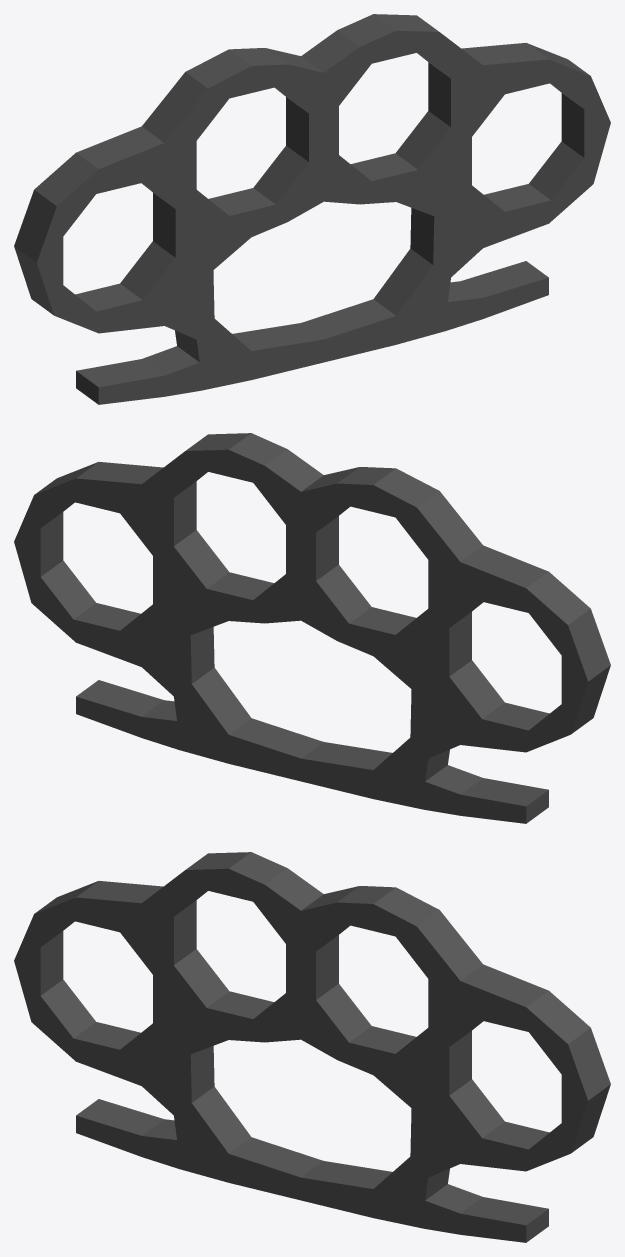
Rendered from BrassKnuckles_01.fbx.
The picture shows the model from 3 angles, top to bottom: view 1: azimuth 30°, elevation 25°; view 2: azimuth 150°, elevation 25°; view 3: azimuth 330°, elevation 25°; orthographic projection.
Visible parts, largest first — view 1: BrassKnuckles_01; view 2: BrassKnuckles_01; view 3: BrassKnuckles_01.
Part boxes in pixels (box(x1,y1,x2,y2)): BrassKnuckles_01: box(14, 14, 610, 404); BrassKnuckles_01: box(14, 433, 610, 823); BrassKnuckles_01: box(14, 852, 610, 1242).
Bounding box in the file's own units: 18.85 × 9.85 × 1.29.
